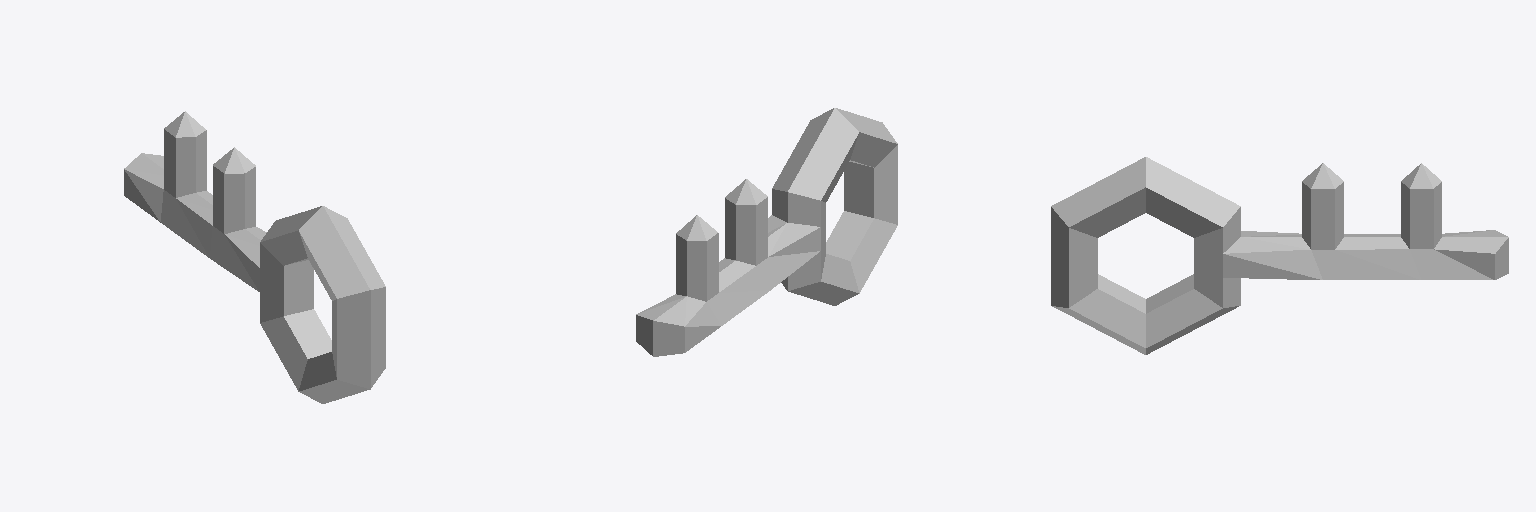
File: Key.obj
The picture shows the model from 3 angles: view 1: azimuth 30°, elevation 25°; view 2: azimuth 150°, elevation 25°; view 3: azimuth 270°, elevation 25°; orthographic projection.
Visible parts, largest first — view 1: Key; view 2: Key; view 3: Key.
Boxes of the visible parts, x1,y1,x2,y2 form: Key: [124, 111, 385, 403]; Key: [636, 108, 897, 356]; Key: [1051, 157, 1508, 354].
Bounding box in the file's own units: 2.41 × 9.31 × 19.45.